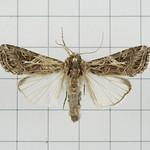Spodoptera litura: (1, 27, 150, 122)
